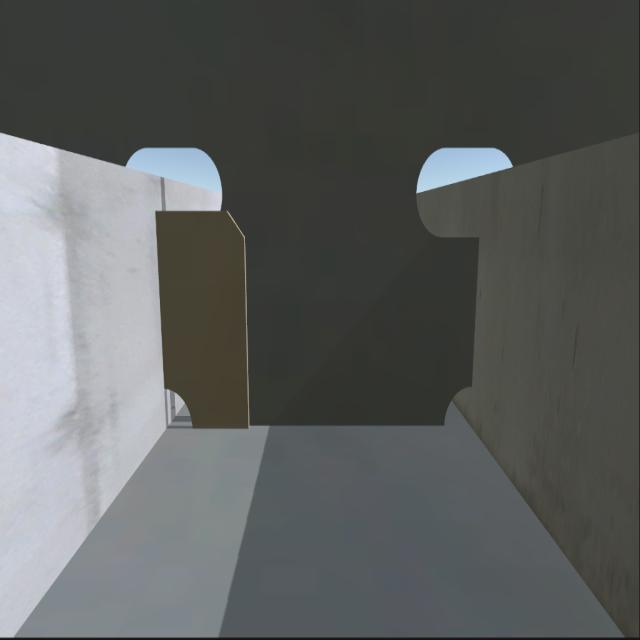fillet_hole: (441, 388, 473, 432), (164, 384, 196, 426)
fillet_yong_jeop_jang: (193, 424, 440, 432)
longi_yong_jeop_jang: (468, 246, 482, 385), (156, 219, 167, 384)
plate_CP03: (161, 209, 255, 423)
